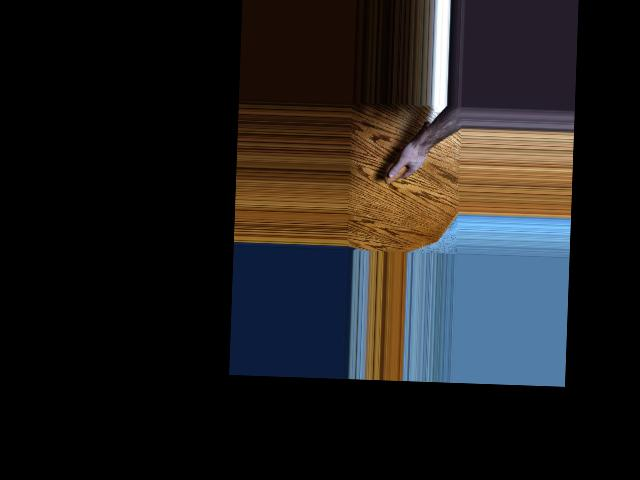sweet_potato: (383, 120, 429, 186)
